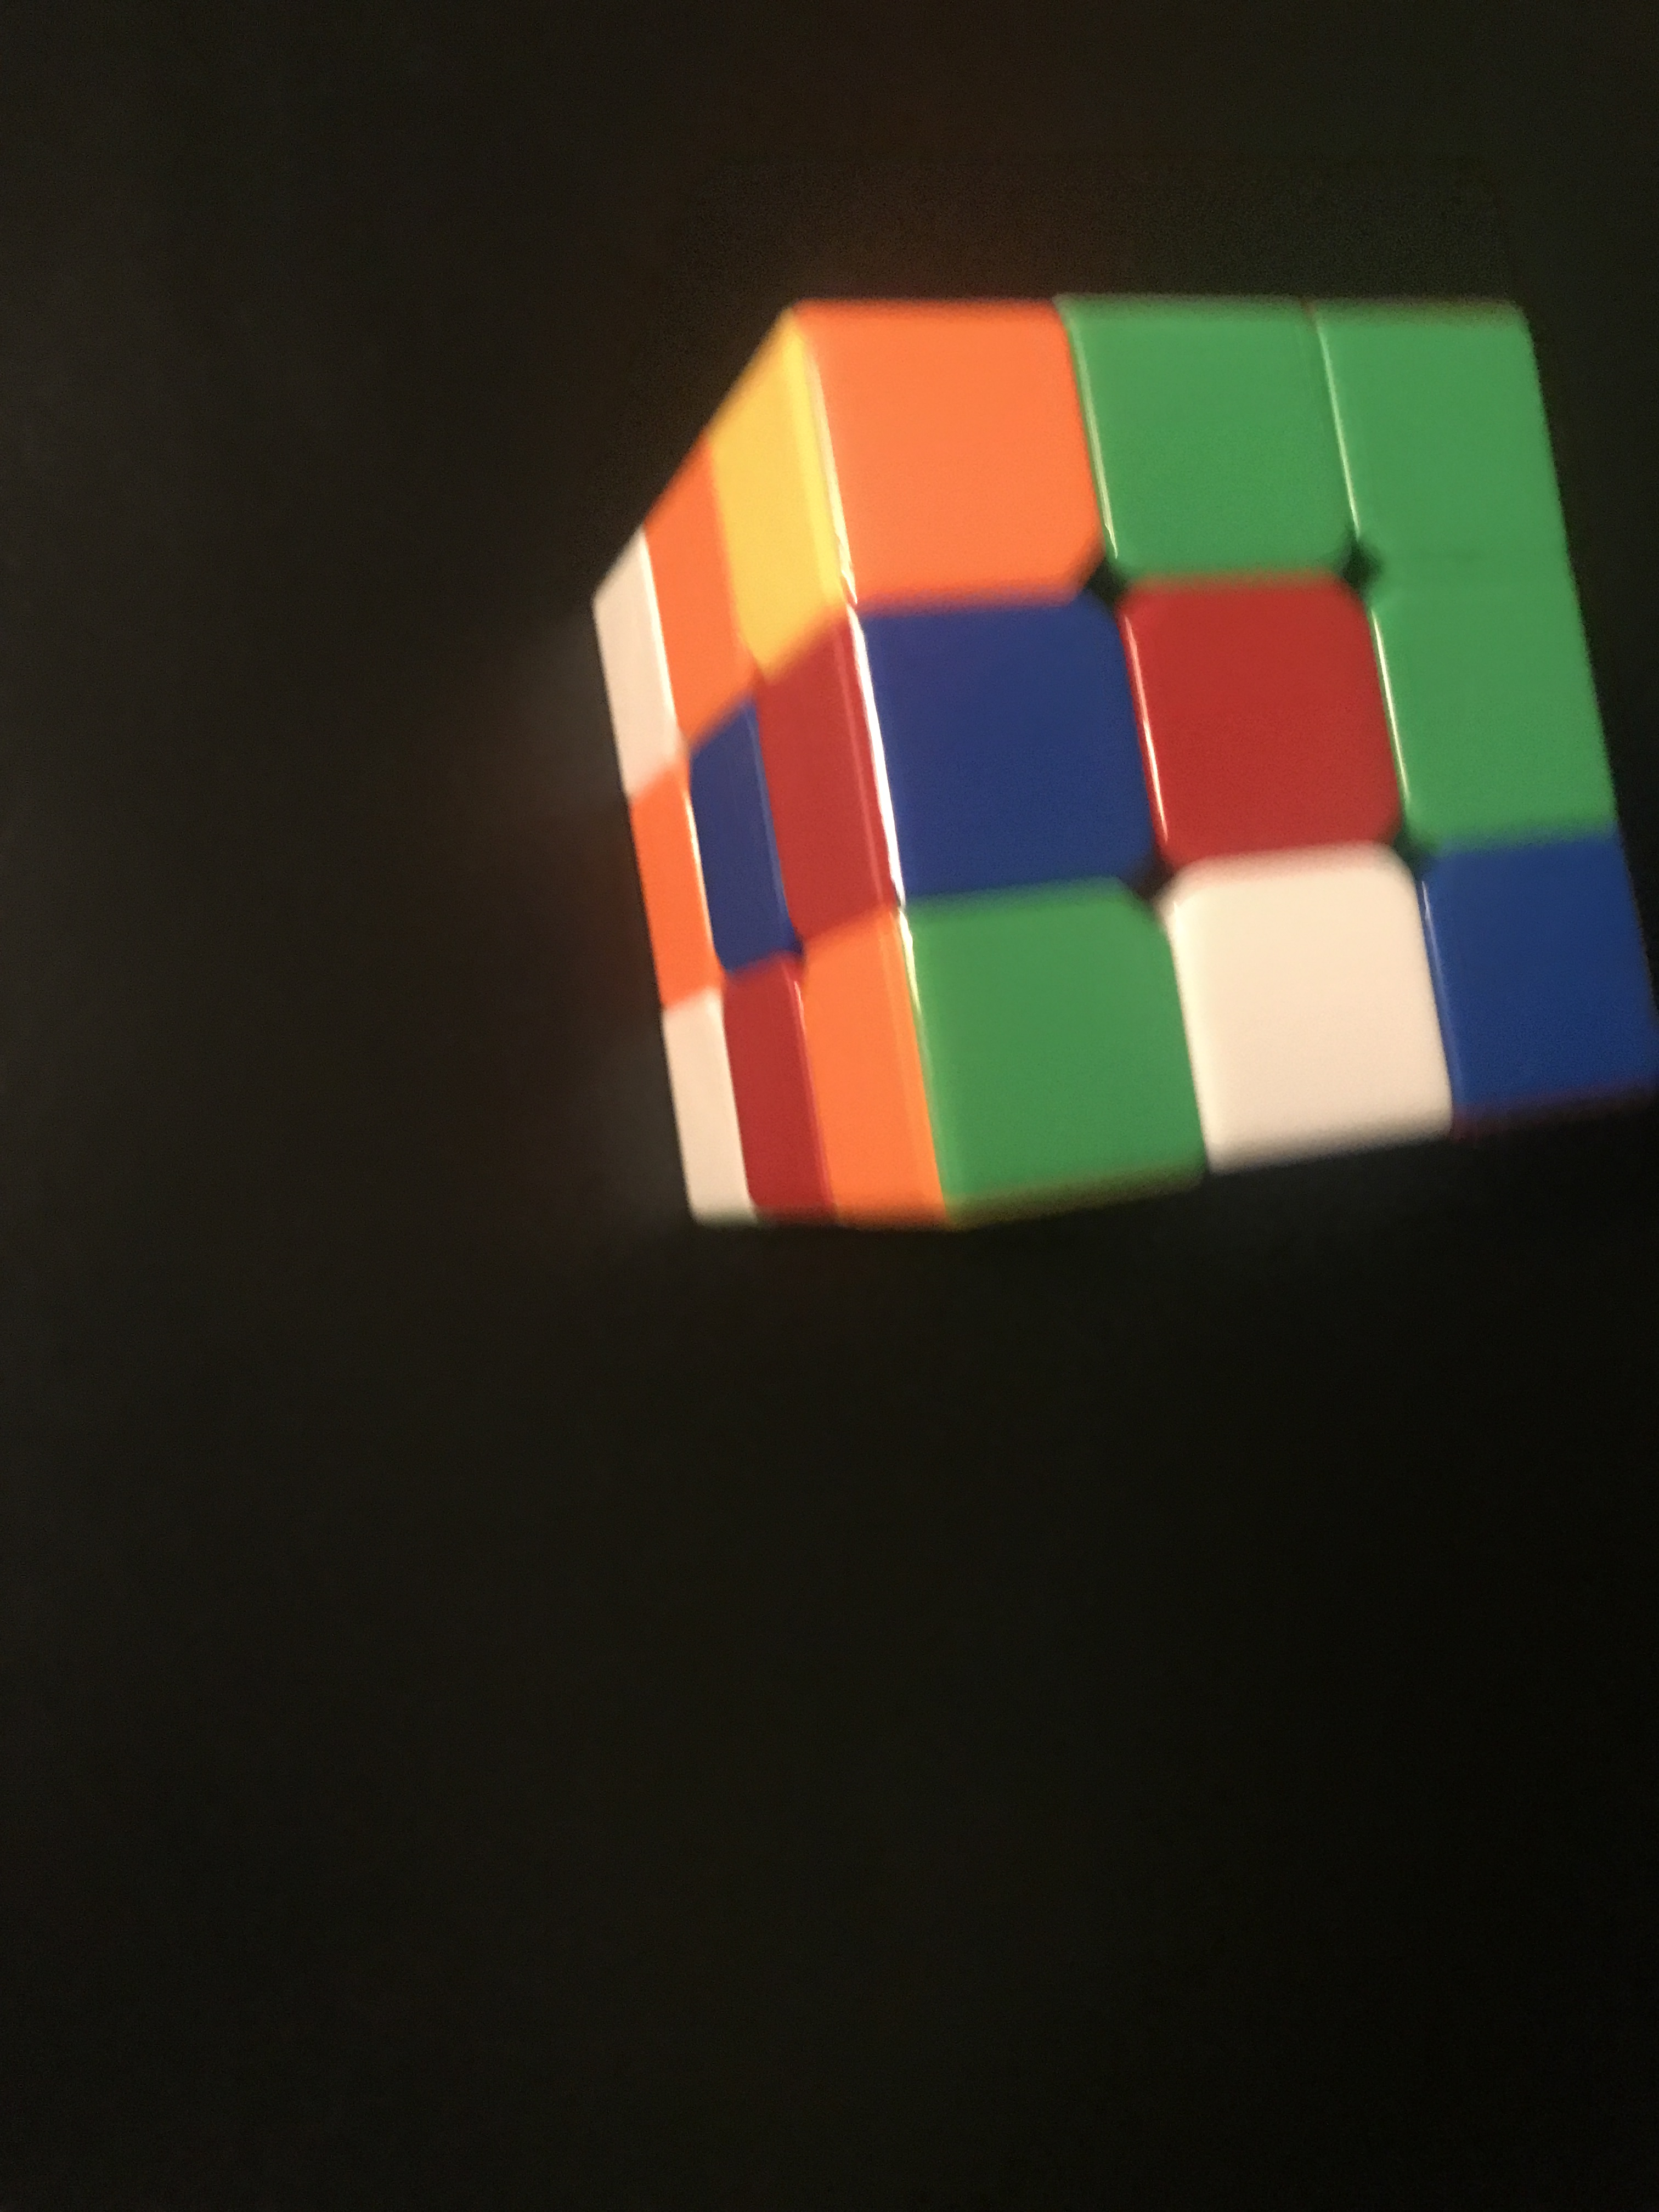rubiks: (592, 294, 1659, 1237)
